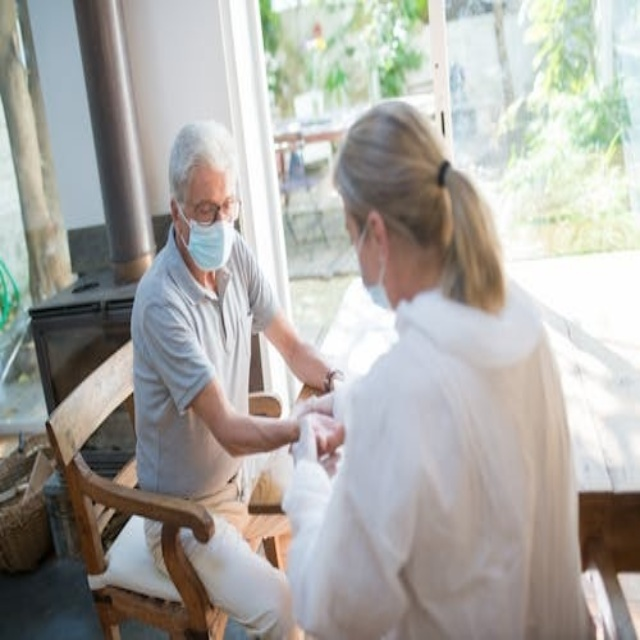Gafas: (181, 194, 242, 225)
Mascara: (178, 205, 235, 271), (357, 226, 391, 311)
Sin_guantes: (283, 397, 343, 462)
